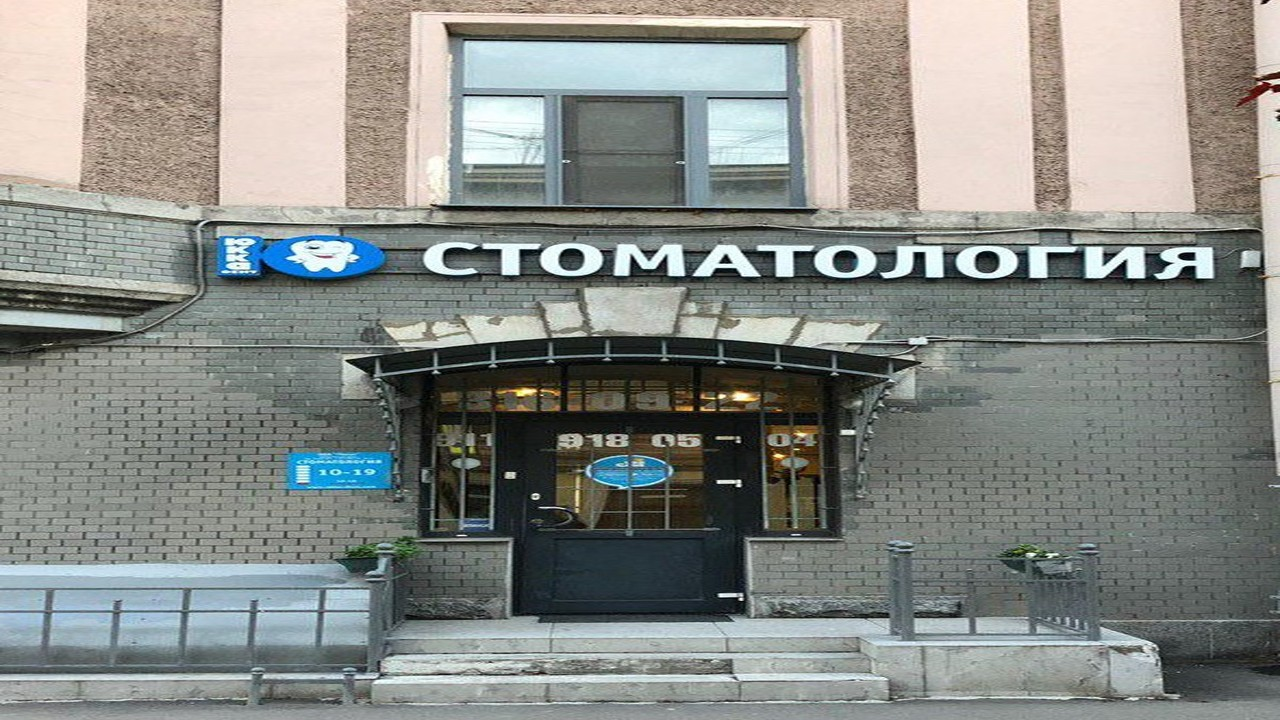door: (516, 420, 736, 612)
signboard: (208, 221, 1226, 294)
window: (445, 36, 801, 208)
